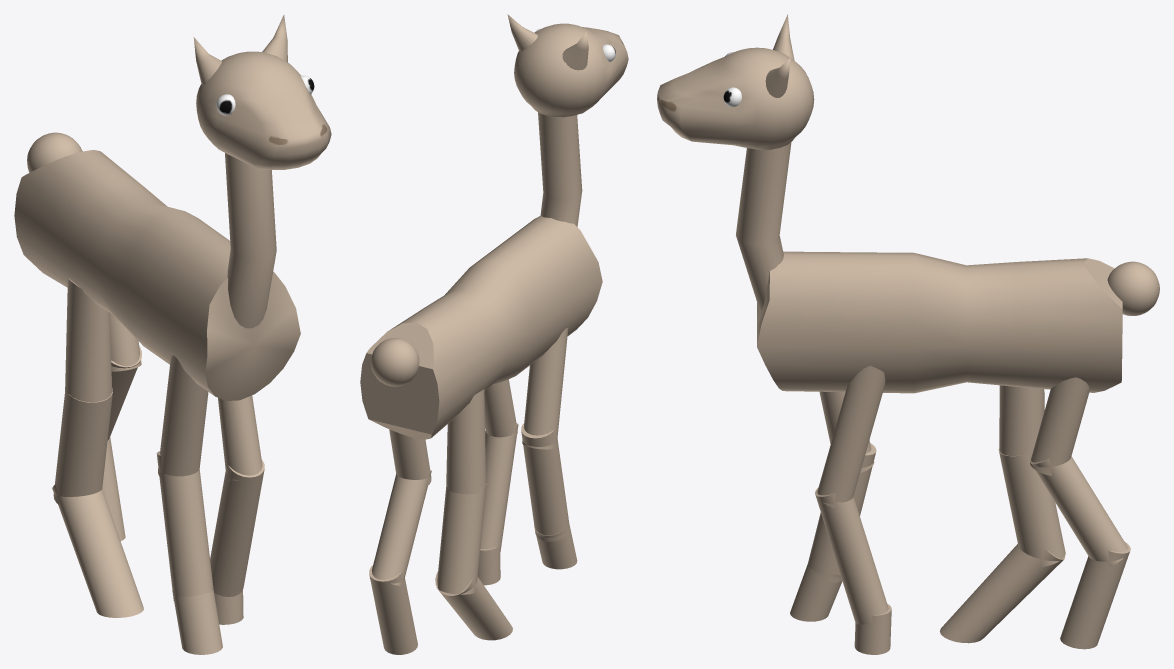
The model's file is llama.fbx.
The picture shows the model from 3 angles, left to right: view 1: azimuth 30°, elevation 25°; view 2: azimuth 150°, elevation 25°; view 3: azimuth 270°, elevation 25°; orthographic projection. The views are drawn at different scales.
Parts seen in each view (by area): view 1: pCone4; view 2: pCone4; view 3: pCone4.
Part boxes in pixels (x1,y1,x2,y2): pCone4: (14, 15, 331, 654); pCone4: (360, 14, 628, 654); pCone4: (657, 14, 1159, 654).
Size of the model in its own units: 2.12 by 13.23 by 9.84.
1 material, 1 textured.
